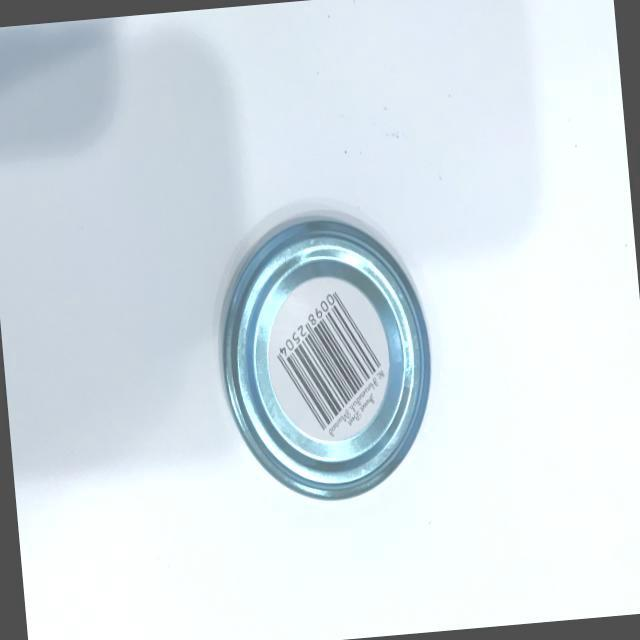metal: (190, 194, 458, 534)
